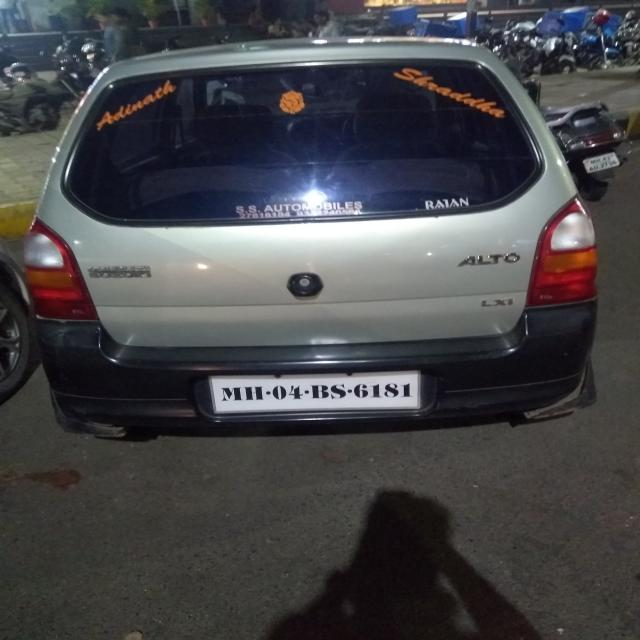Number-Plate: (216, 375, 420, 412)
